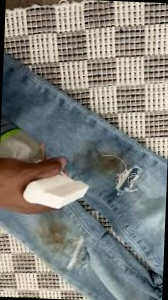earth: (46, 219, 68, 244), (91, 154, 122, 171)
